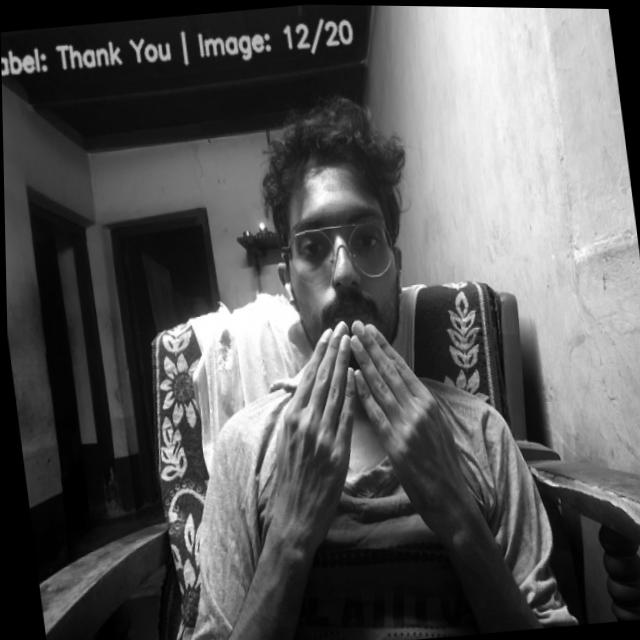Thank You: (248, 307, 472, 534)
